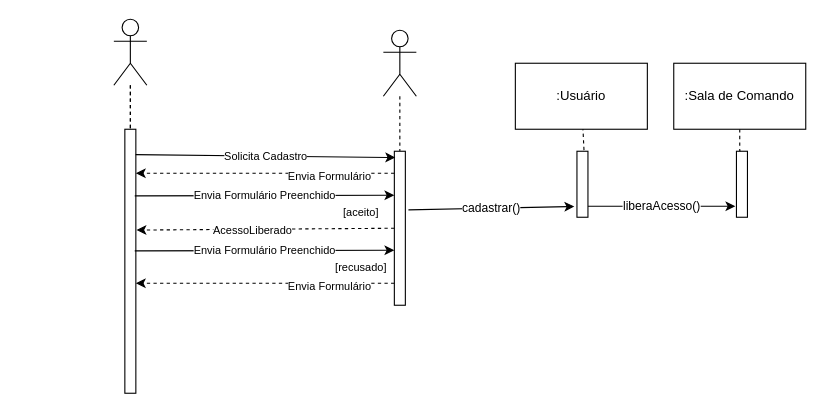
Some shapes in this 825 by 413 pixel diagram are drawn without their labels. The shapes that lost their labels are listed below. From the top down, each one's centre as x and y in pixels, then its label:
the point at 130,51: Usuário Controlador / Passageiro VIP
the point at 399,62: Usuário Master
